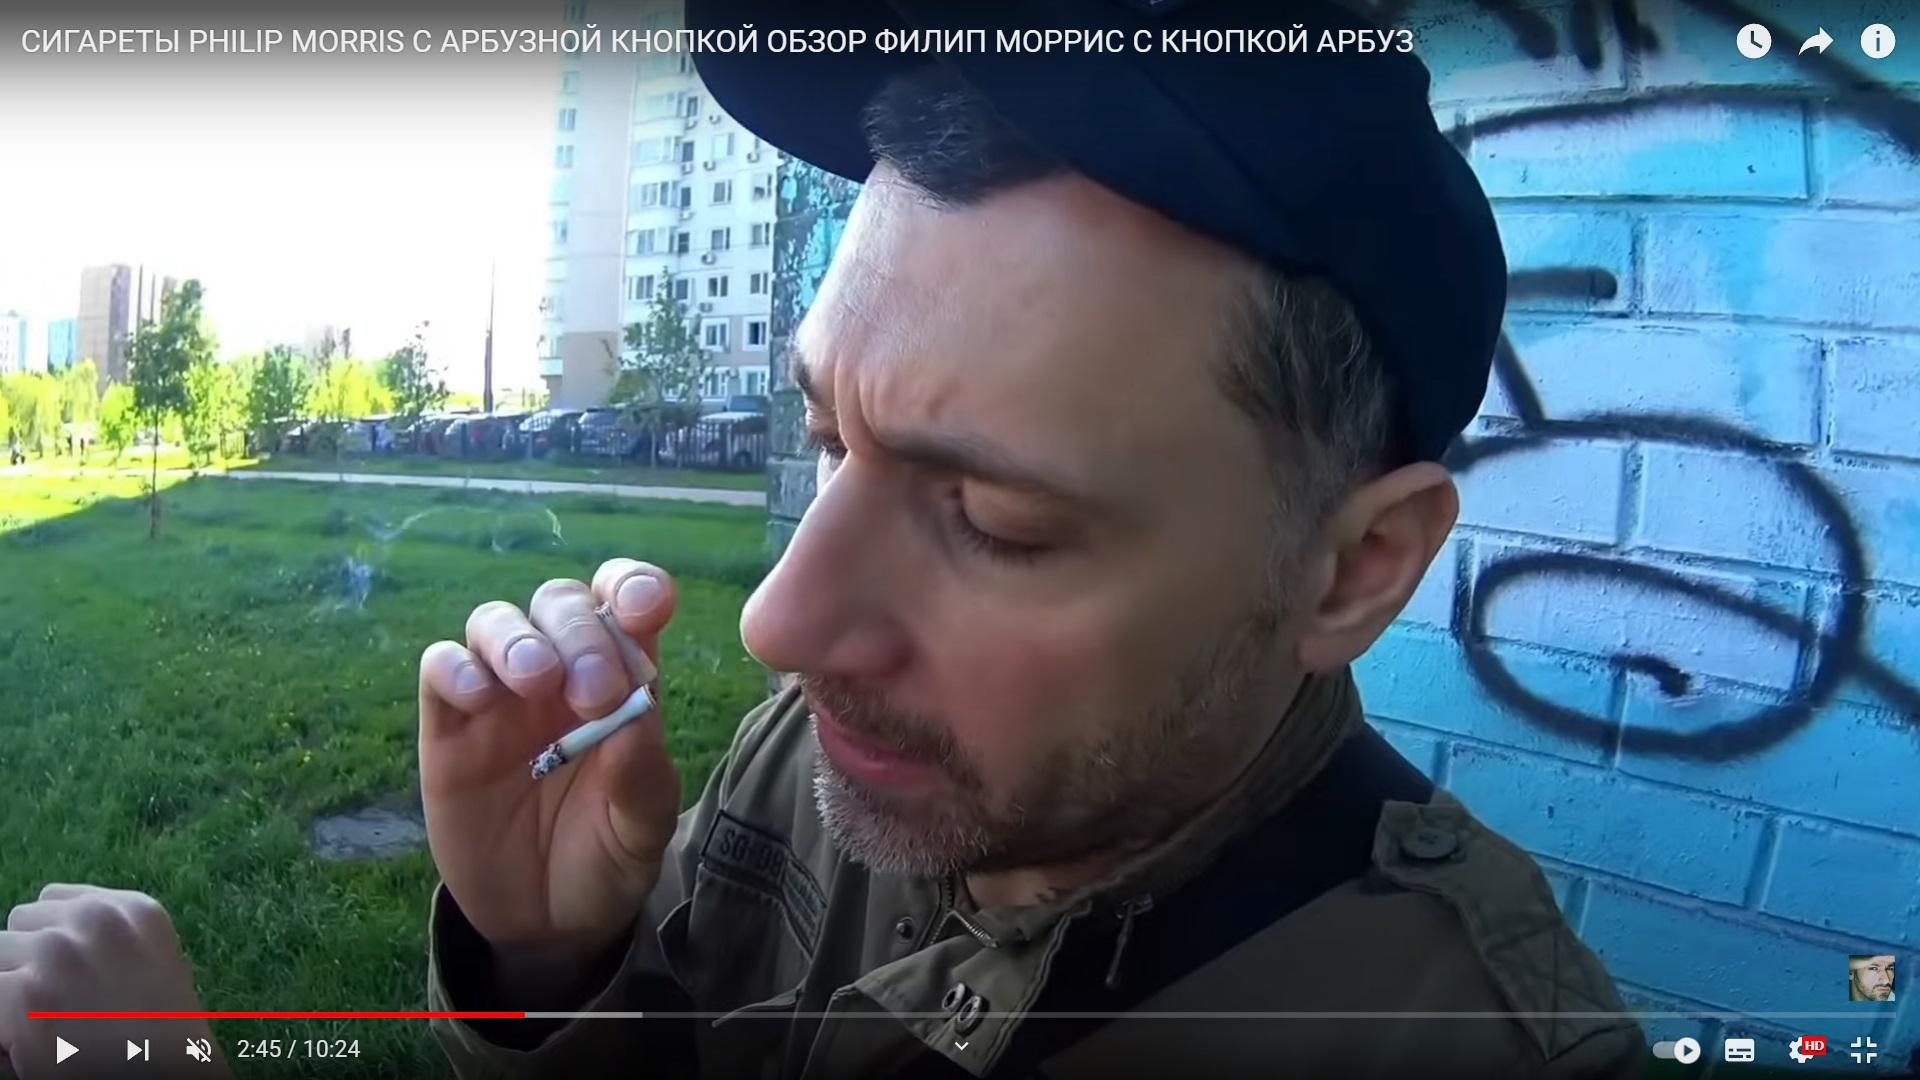cigarette: (530, 684, 659, 781)
